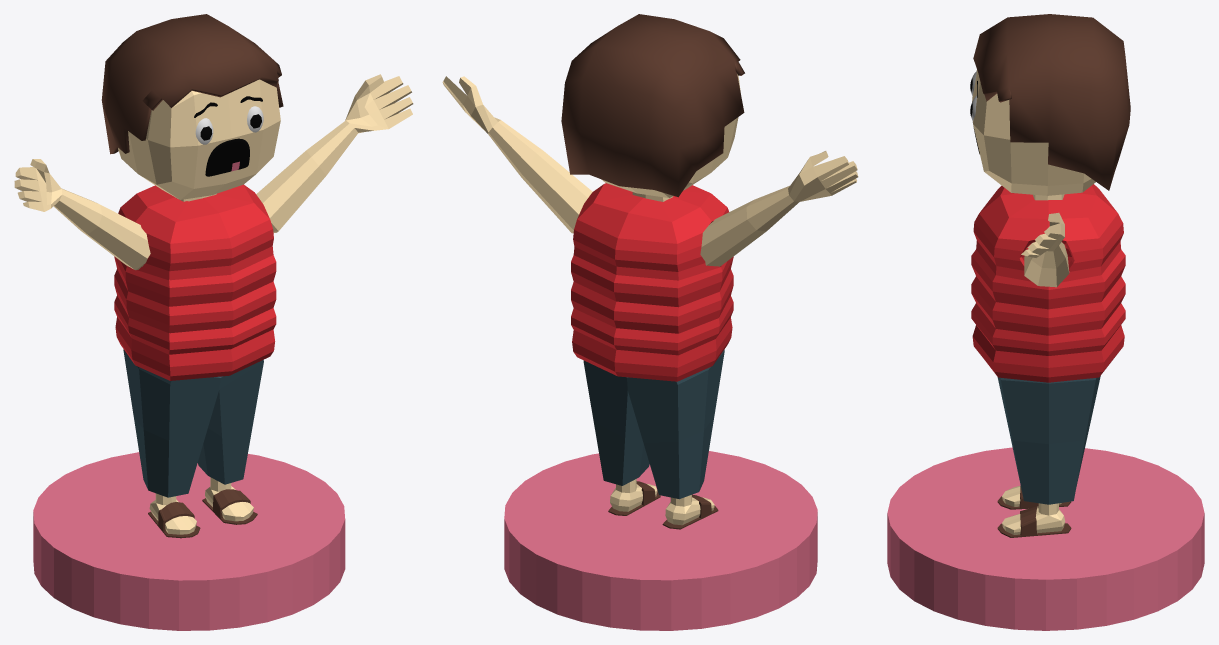
Rendered from victim.fbx.
3 views of the same model, side by side, from view 1: azimuth 30°, elevation 25°; view 2: azimuth 150°, elevation 25°; view 3: azimuth 270°, elevation 25° (orthographic).
Parts seen in each view (by area): view 1: chaleco; view 2: chaleco; view 3: chaleco.
Part boxes in pixels (x1,y1,x2,y2): chaleco: (14, 14, 413, 630); chaleco: (442, 14, 858, 630); chaleco: (887, 14, 1204, 630).
Bounding box in the file's own units: 62.19 × 77.94 × 41.58.
